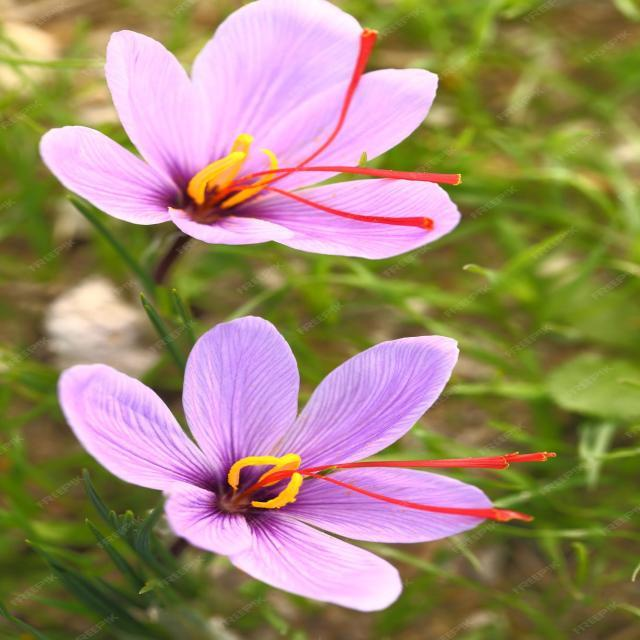Flower: (58, 315, 514, 613), (41, 0, 468, 266)
stigma: (328, 476, 526, 524), (297, 446, 555, 475), (317, 26, 378, 147), (284, 192, 434, 229), (275, 158, 468, 182)
